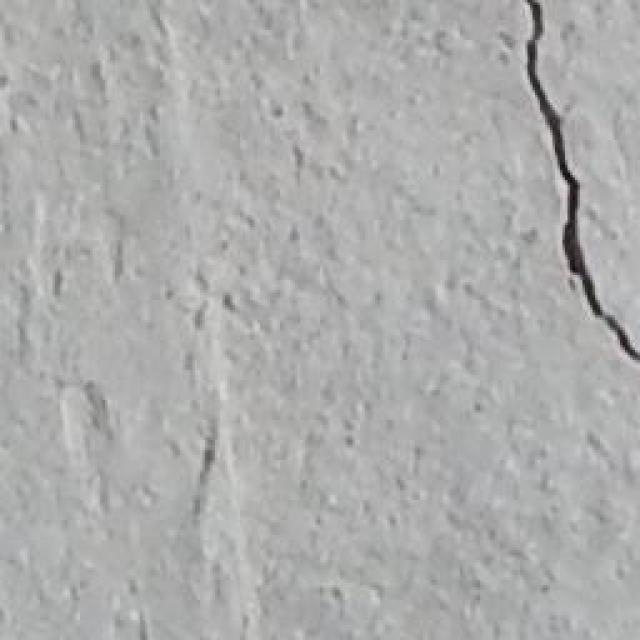concrete-crack: (520, 0, 640, 370)
